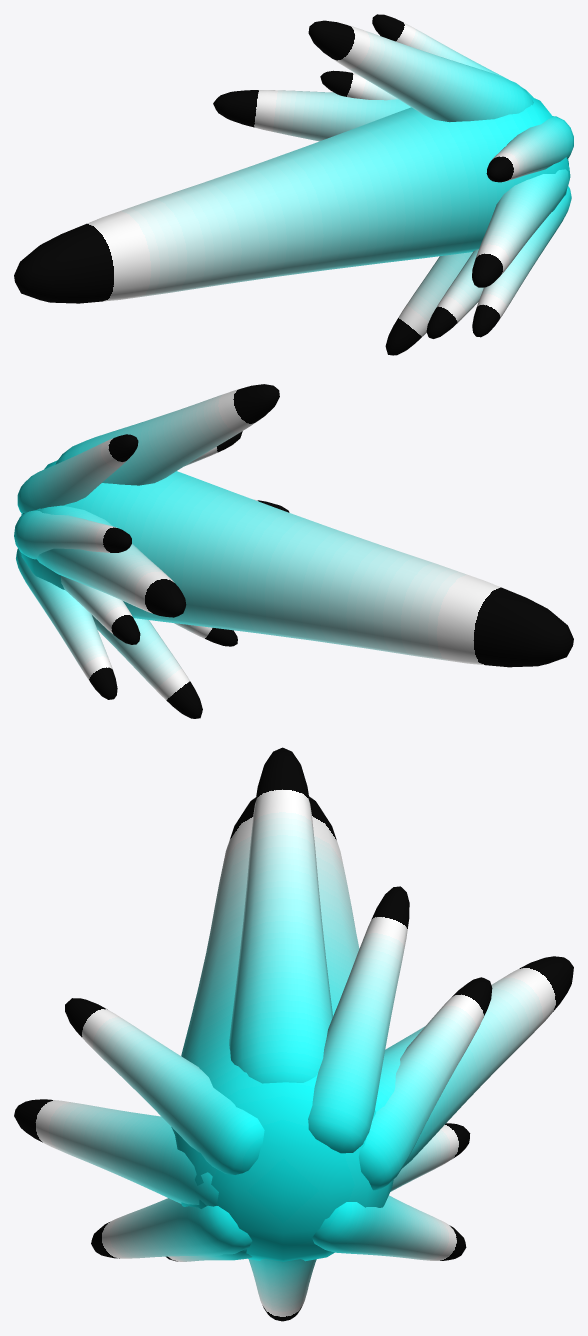
File: Bala.fbx
3 renders of one model, top to bottom at view 1: azimuth 30°, elevation 25°; view 2: azimuth 150°, elevation 25°; view 3: azimuth 270°, elevation 25°, orthographic. The views are drawn at different scales.
Visible parts, largest first — view 1: Bala, Bala_Sub1, Bala_Sub1.004, Bala_Sub1.005, Bala_Sub1.003, Bala_Sub1.010, Bala_Sub1.001, Bala_Sub1.006, Bala_Sub1.007, Bala_Sub1.009; view 2: Bala, Bala_Sub1, Bala_Sub1.004, Bala_Sub1.007, Bala_Sub1.008, Bala_Sub1.009, Bala_Sub1.001, Bala_Sub1.002, Bala_Sub1.006; view 3: Bala, Bala_Sub1, Bala_Sub1.007, Bala_Sub1.003, Bala_Sub1.005, Bala_Sub1.009, Bala_Sub1.004, Bala_Sub1.010, Bala_Sub1.008, Bala_Sub1.001, Bala_Sub1.002.
Boxes of the visible parts, <box> form: Bala: <box>14,97,569,303</box>; Bala_Sub1: <box>308,20,533,122</box>; Bala_Sub1.004: <box>213,90,410,141</box>; Bala_Sub1.005: <box>472,165,570,287</box>; Bala_Sub1.003: <box>486,116,573,182</box>; Bala_Sub1.010: <box>472,186,571,337</box>; Bala_Sub1.001: <box>385,252,472,355</box>; Bala_Sub1.006: <box>426,249,483,338</box>; Bala_Sub1.007: <box>372,14,533,97</box>; Bala_Sub1.009: <box>320,70,397,100</box>; Bala: <box>21,460,573,667</box>; Bala_Sub1: <box>55,384,279,485</box>; Bala_Sub1.004: <box>37,505,186,617</box>; Bala_Sub1.007: <box>17,434,138,514</box>; Bala_Sub1.008: <box>16,548,117,699</box>; Bala_Sub1.009: <box>14,510,131,559</box>; Bala_Sub1.001: <box>92,615,202,718</box>; Bala_Sub1.002: <box>61,575,140,644</box>; Bala_Sub1.006: <box>174,623,237,646</box>; Bala: <box>171,796,393,1261</box>; Bala_Sub1: <box>229,747,332,1083</box>; Bala_Sub1.007: <box>308,886,409,1153</box>; Bala_Sub1.003: <box>65,998,264,1174</box>; Bala_Sub1.005: <box>14,1099,218,1206</box>; Bala_Sub1.009: <box>359,977,492,1190</box>; Bala_Sub1.004: <box>375,956,573,1168</box>; Bala_Sub1.010: <box>91,1198,252,1258</box>; Bala_Sub1.008: <box>312,1195,466,1260</box>; Bala_Sub1.001: <box>248,1259,316,1321</box>; Bala_Sub1.002: <box>390,1123,470,1191</box>.
Bounding box in the file's own units: 613 × 379 × 373.
